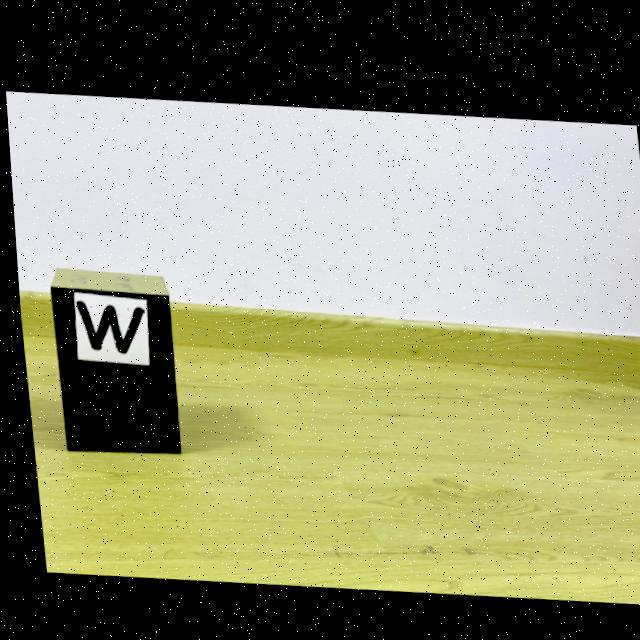W: (72, 300, 139, 351)
